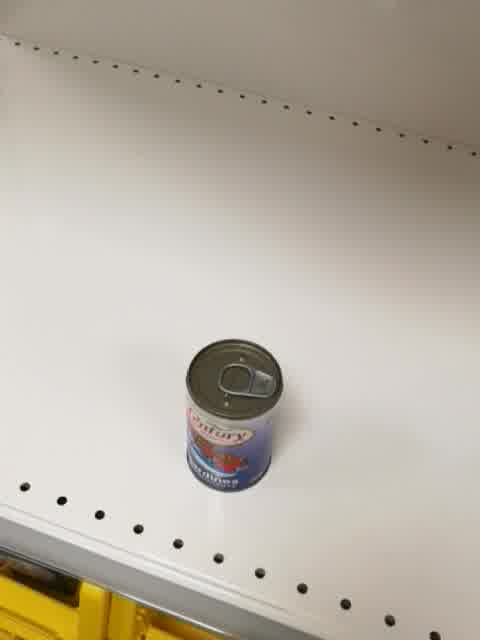sardine: (185, 337, 283, 493)
